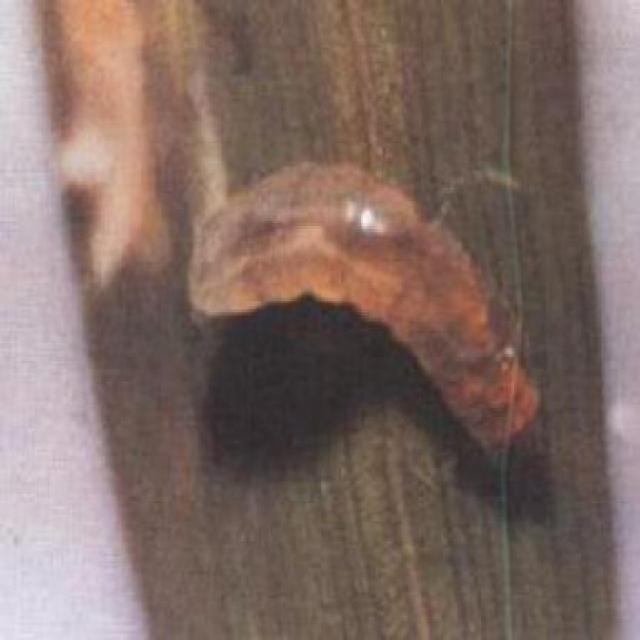whorl-maggot: (187, 149, 551, 475)
